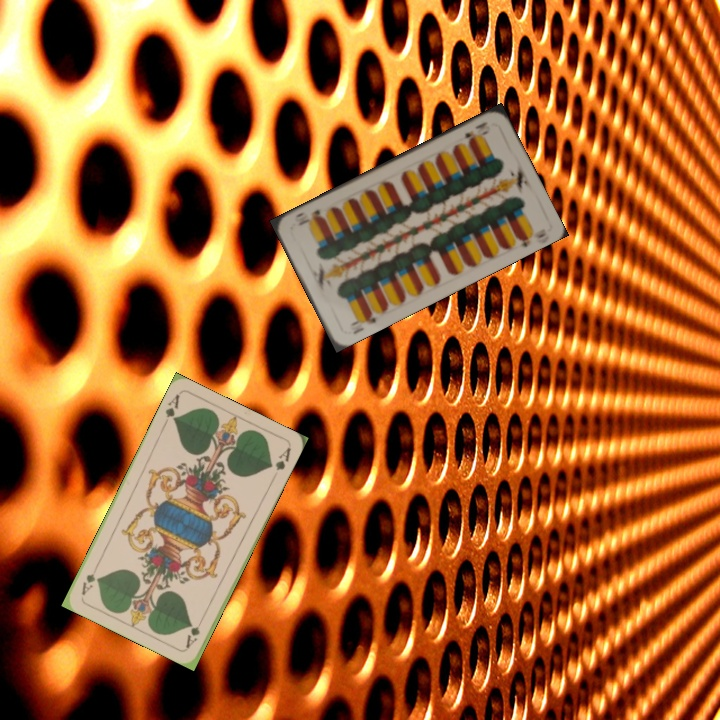E10: (459, 118, 493, 145), (346, 308, 379, 329)
GA: (182, 613, 207, 650), (159, 390, 182, 429)
